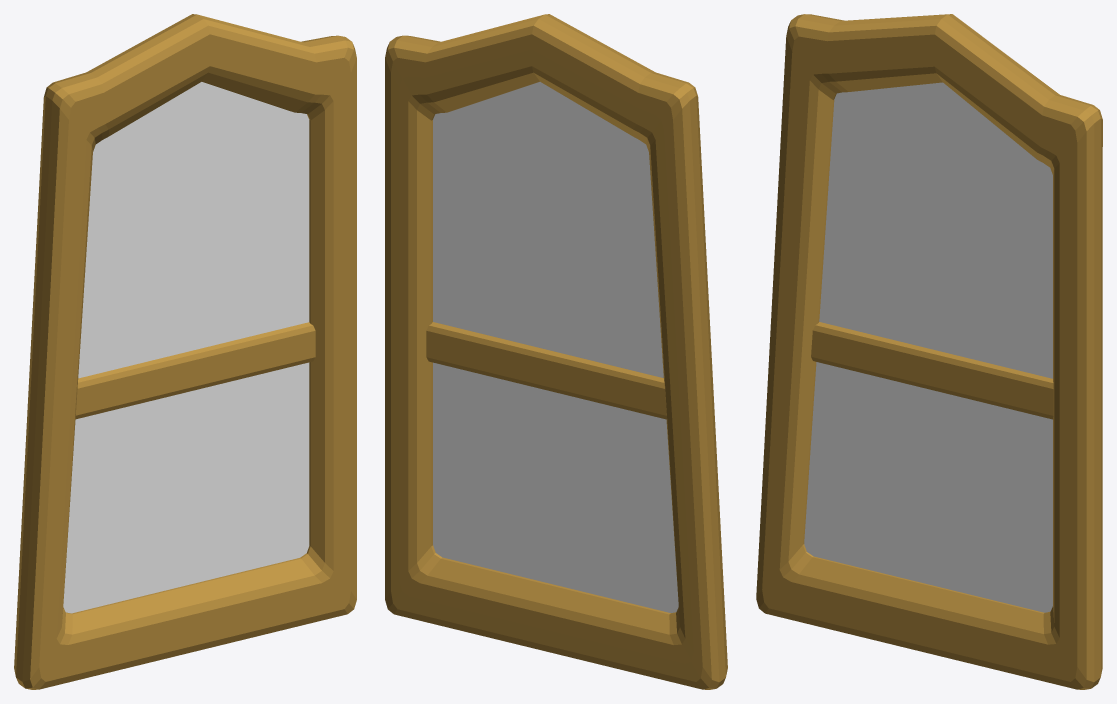
The model's file is SM_Window_01.fbx.
3 renders of one model, left to right at view 1: azimuth 30°, elevation 25°; view 2: azimuth 150°, elevation 25°; view 3: azimuth 330°, elevation 25°, orthographic.
Visible parts, largest first — view 1: SM_Window_01; view 2: SM_Window_01; view 3: SM_Window_01.
Part boxes in pixels (box(x1,y1,x2,y2)): SM_Window_01: box(14, 14, 356, 689); SM_Window_01: box(385, 14, 727, 689); SM_Window_01: box(756, 14, 1102, 689).
Size of the model in its own units: 1.01 by 1.83 by 0.1019.
